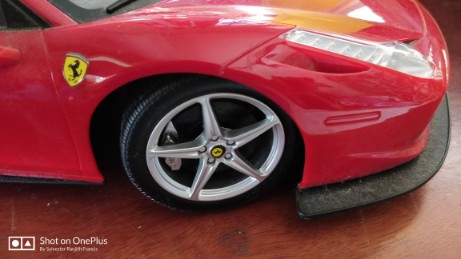unaligned_wheel: (97, 73, 309, 226)
